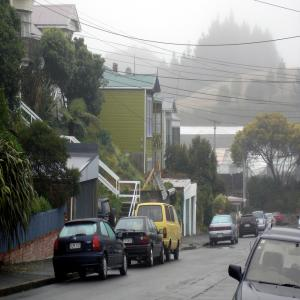Vehicle-registration-plate: (70, 243, 81, 249), (124, 239, 133, 244)
